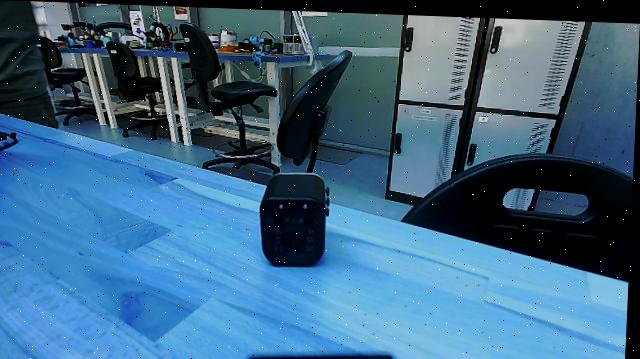adapter: (258, 167, 332, 267)
